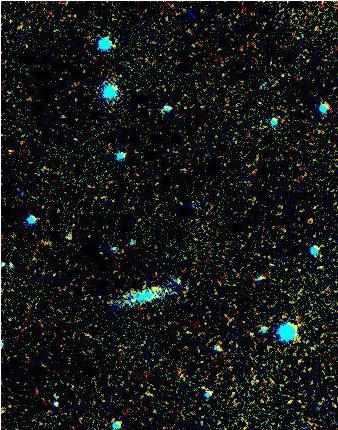star: (143, 271, 173, 301)
